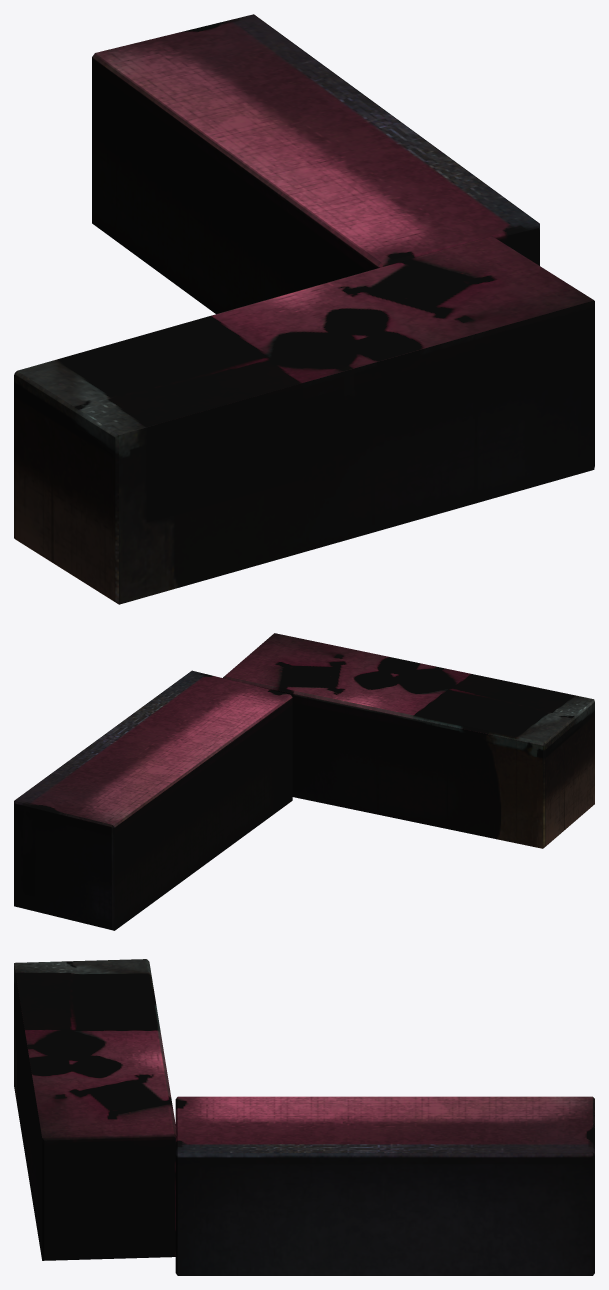
3 views of the same model, one above another, from view 1: azimuth 30°, elevation 25°; view 2: azimuth 150°, elevation 25°; view 3: azimuth 270°, elevation 25° (orthographic). The views are drawn at different scales.
Visible parts, largest first — view 1: prop3; view 2: prop3; view 3: prop3.
Boxes of the visible parts, x1,y1,x2,y2 form: prop3: [14, 14, 594, 604]; prop3: [14, 633, 594, 930]; prop3: [14, 959, 594, 1275].
Bounding box in the file's own units: 6.75 × 2.02 × 8.56.
1 material, 1 textured.
